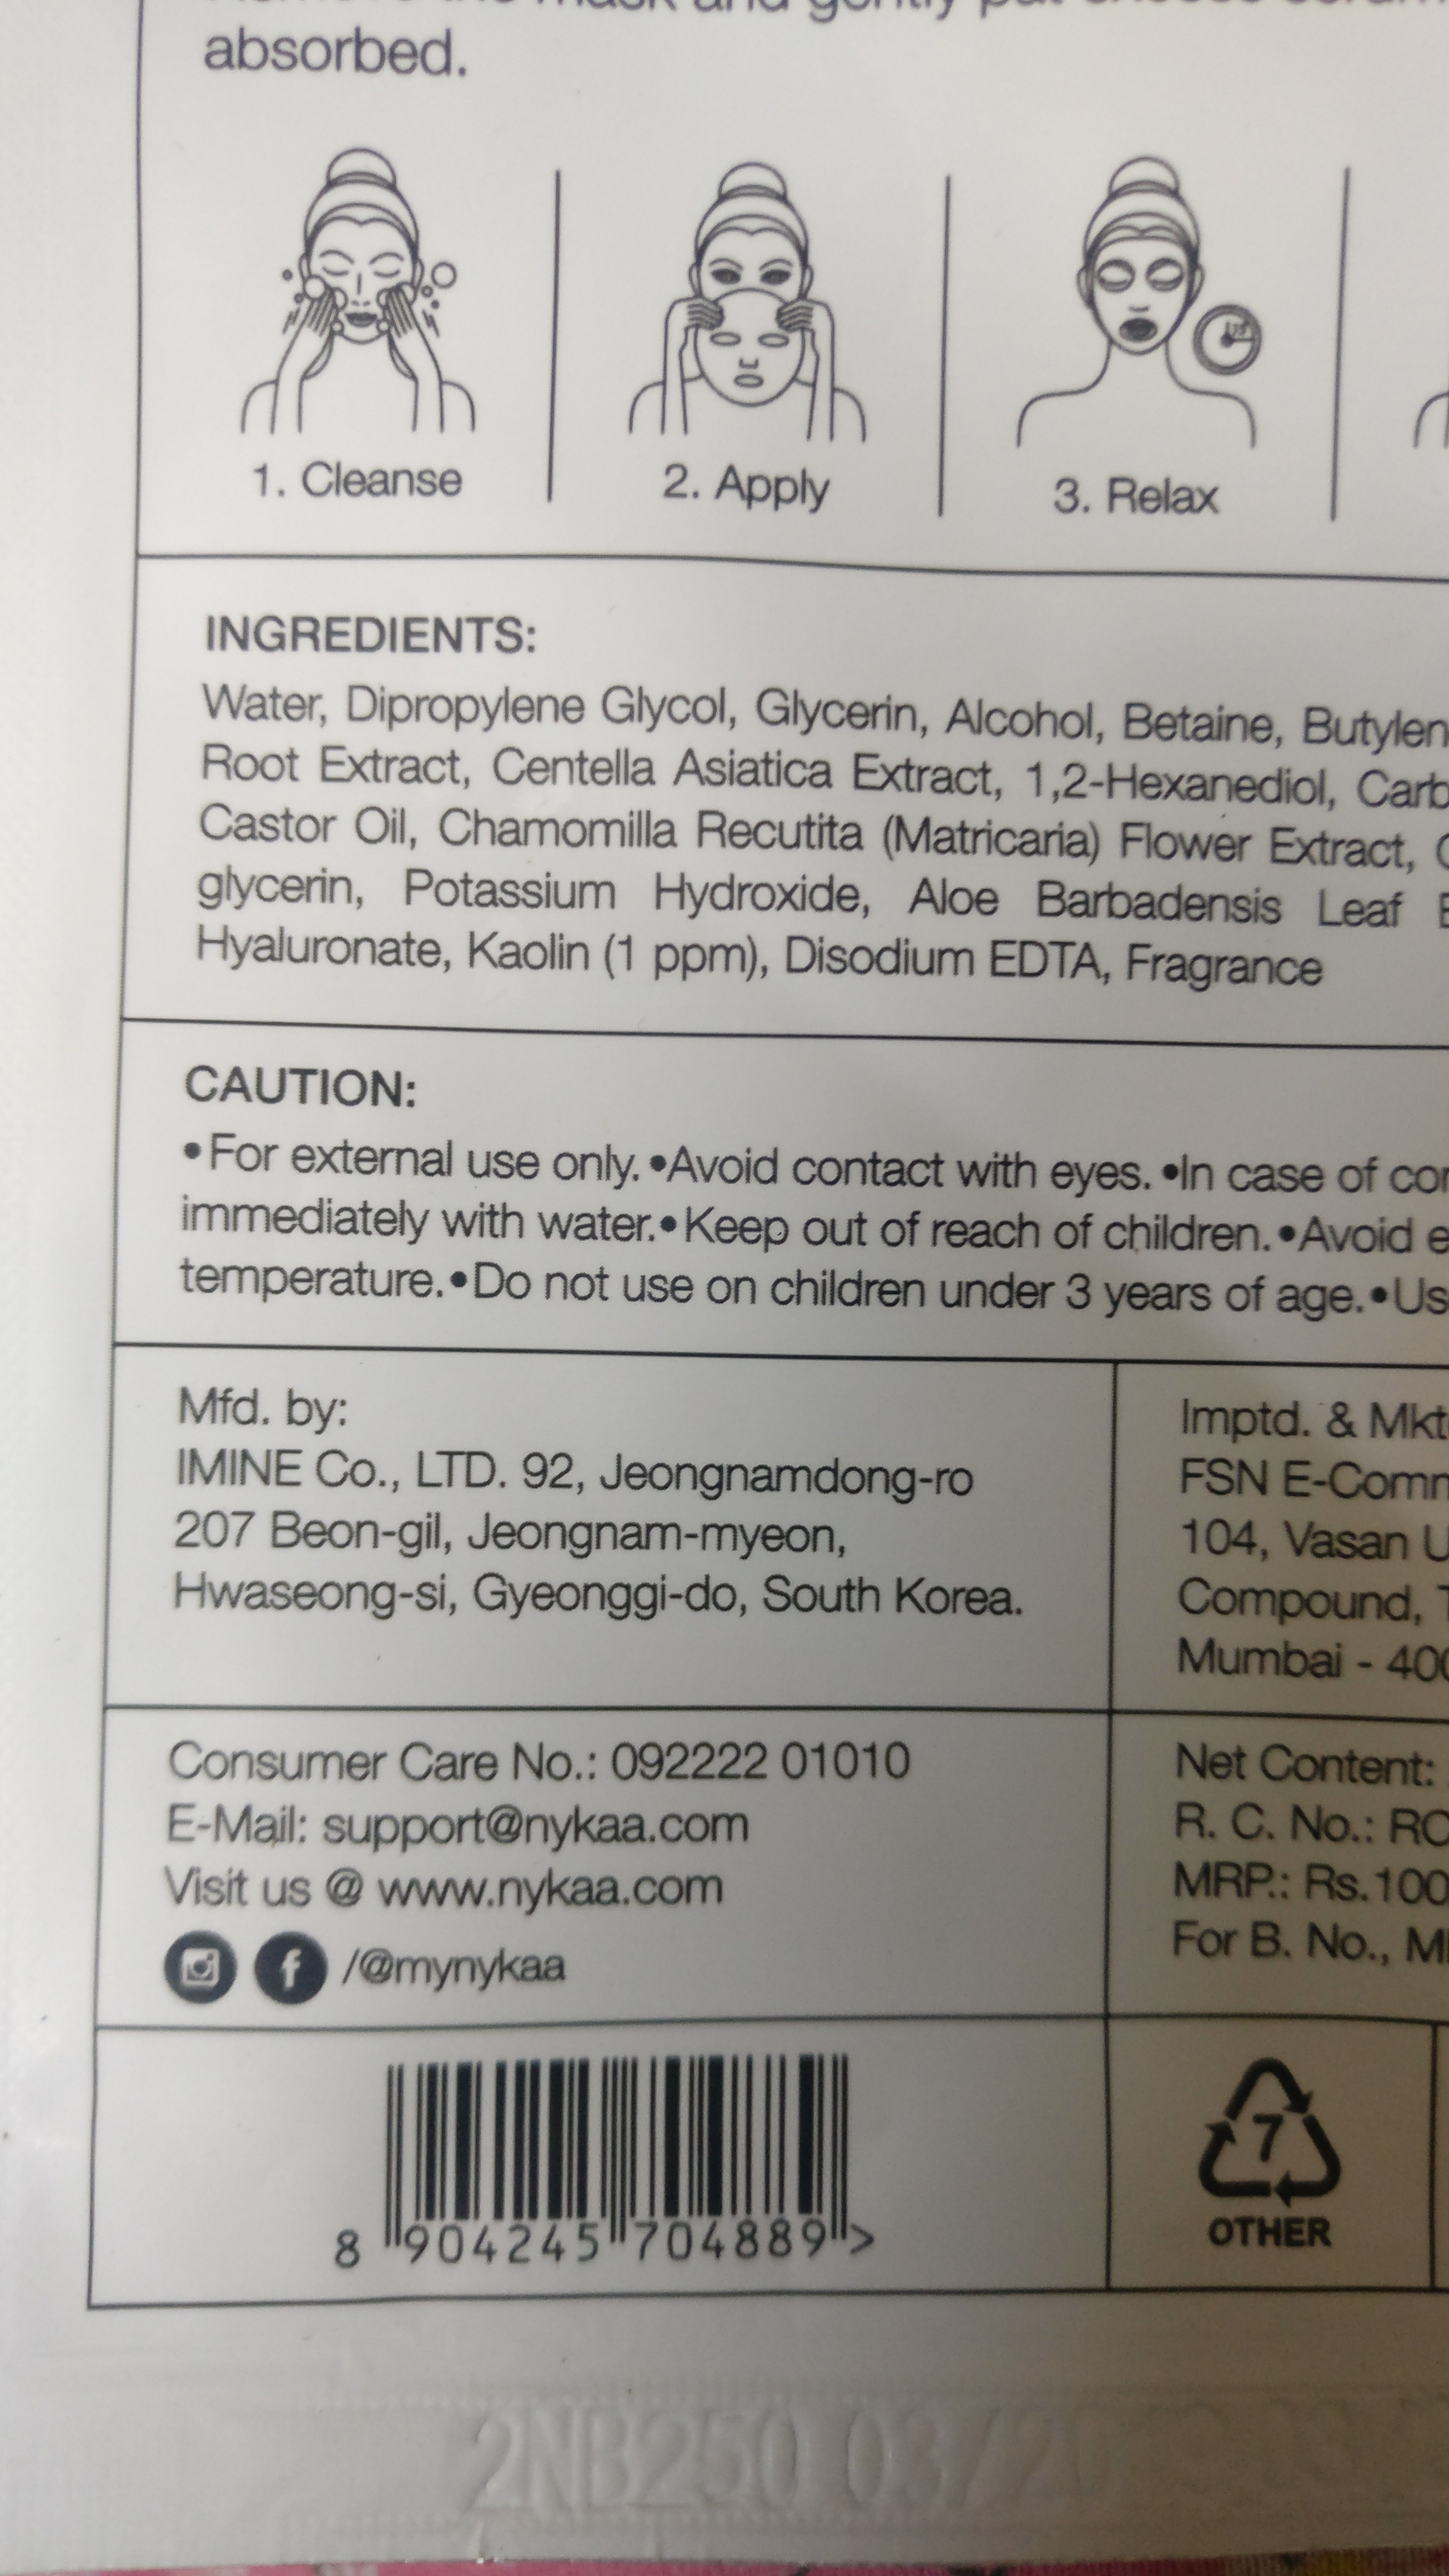barcode: (363, 2058, 886, 2279)
